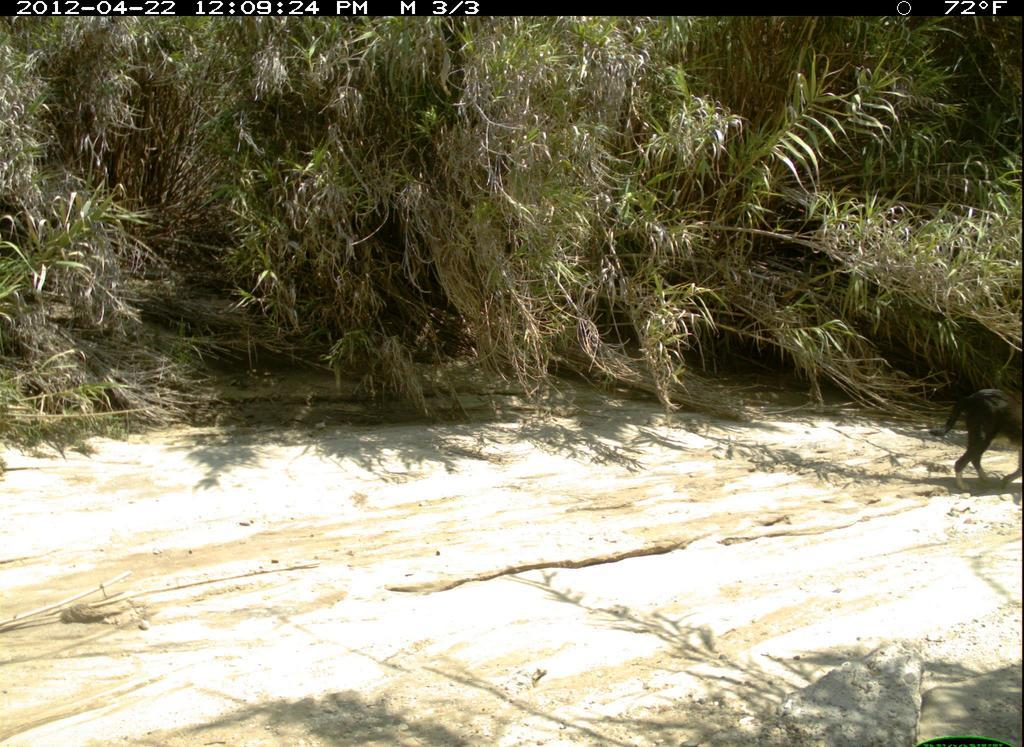dog: (926, 382, 1022, 495)
